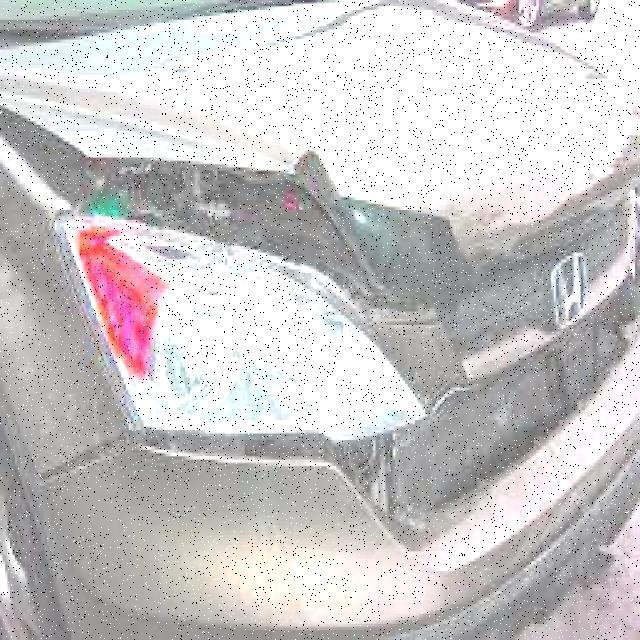car damage: (0, 0, 118, 8)
